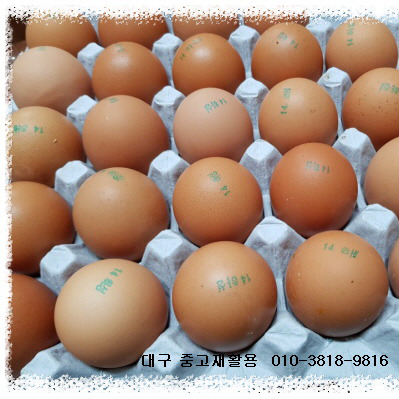egg: (9, 9, 399, 370)
